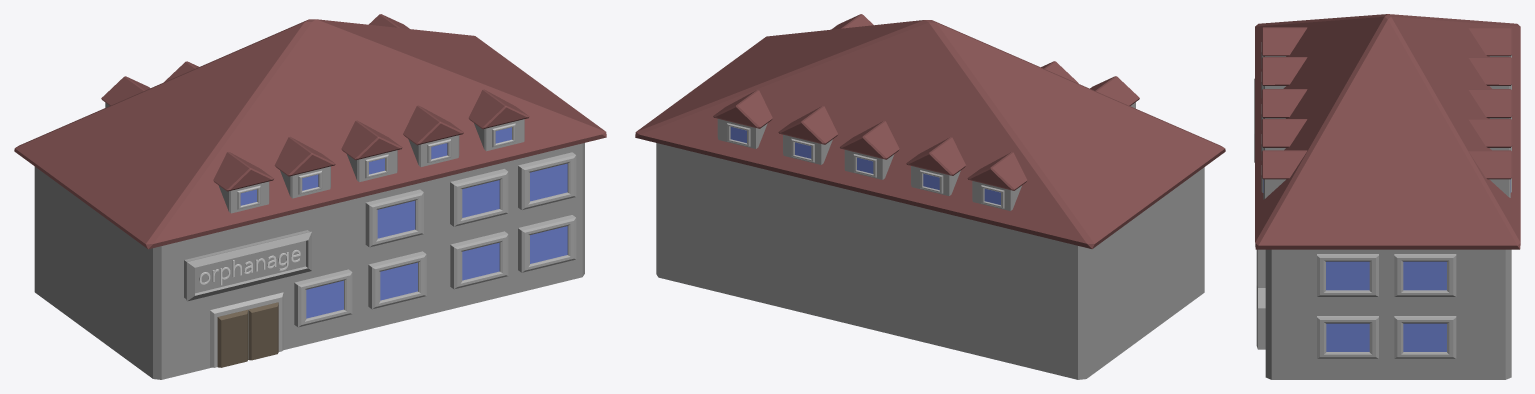
File: house3.fbx
The picture shows the model from 3 angles, left to right: view 1: azimuth 30°, elevation 25°; view 2: azimuth 150°, elevation 25°; view 3: azimuth 270°, elevation 25°; orthographic projection.
Visible parts, largest first — view 1: orphanage; view 2: orphanage; view 3: orphanage.
Part boxes in pixels (<box>): orphanage: <box>14,14,606,379</box>; orphanage: <box>635,14,1225,379</box>; orphanage: <box>1254,14,1520,379</box>.
Bounding box in the file's own units: 19.44 × 10.59 × 9.86.
